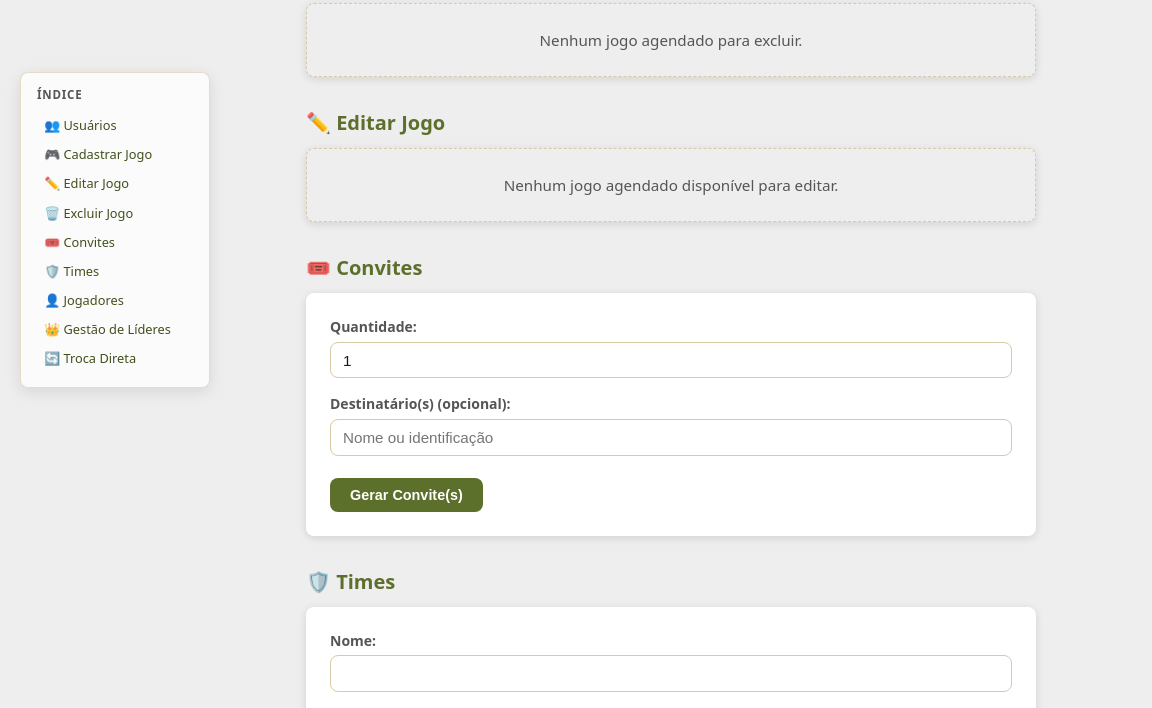
Test: InvitesSection — reset após submit bem-sucedido › reseta descriptions para [""] e quantity para 1 após submit
The width and height of the screenshot is (1152, 708).
(page scrolled)
Replace the text in the number field labelled "Quantidade:" with "3" at [671, 360], box x1=330 y1=342 x2=1012 y2=378
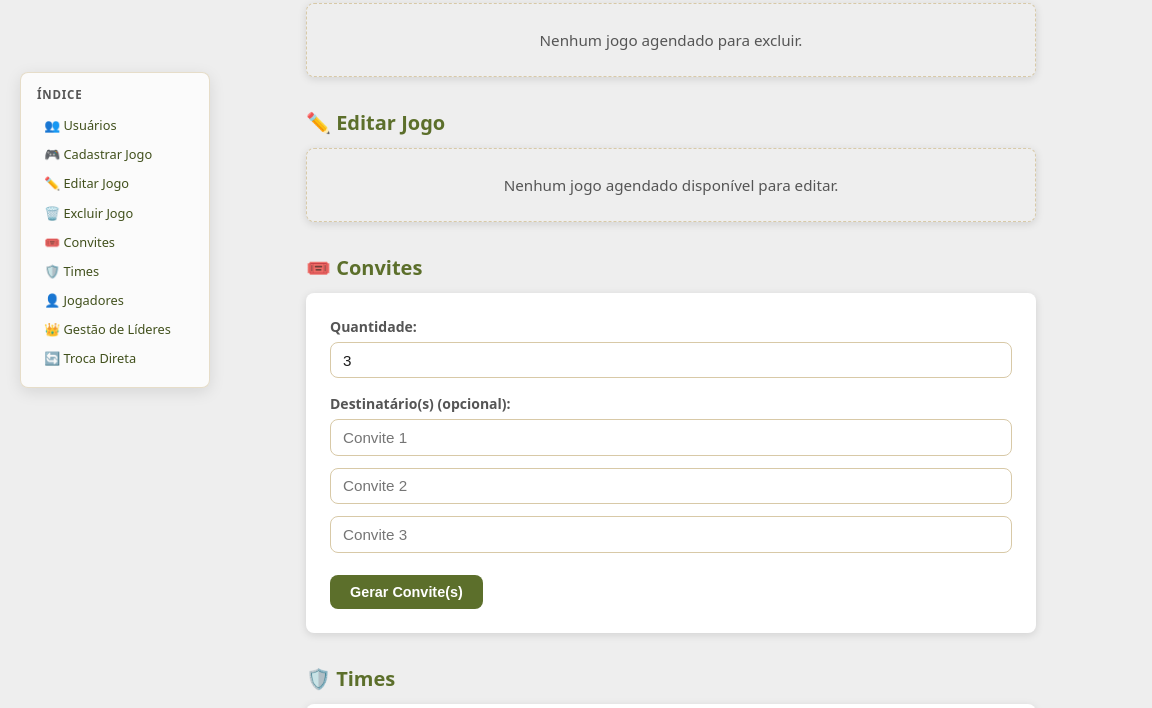
Check: the field with placeholder "Convite 3" is shown, box x1=330 y1=516 x2=1012 y2=553
Click the button "Gerar Convite(s)" at [406, 592], box x1=330 y1=575 x2=483 y2=609
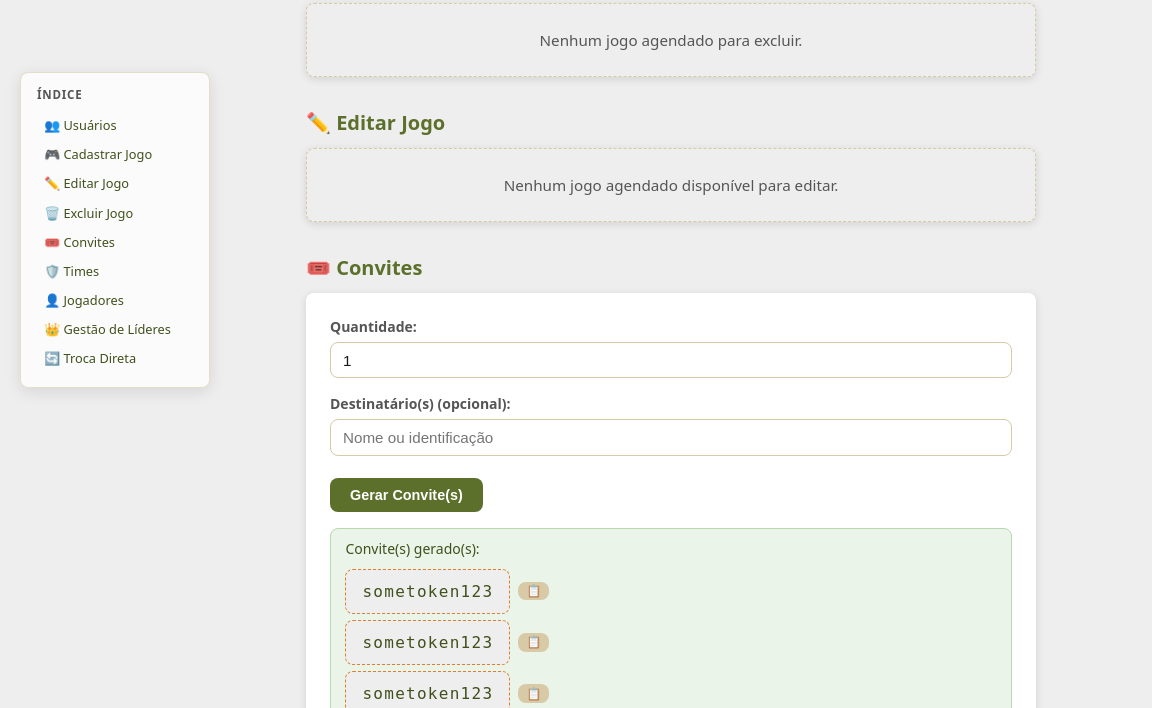
Check: the field with placeholder "Nome ou identificação" is shown, box x1=330 y1=419 x2=1012 y2=456
Check: the number field labelled "Quantidade:" holds "1", box x1=330 y1=342 x2=1012 y2=378
